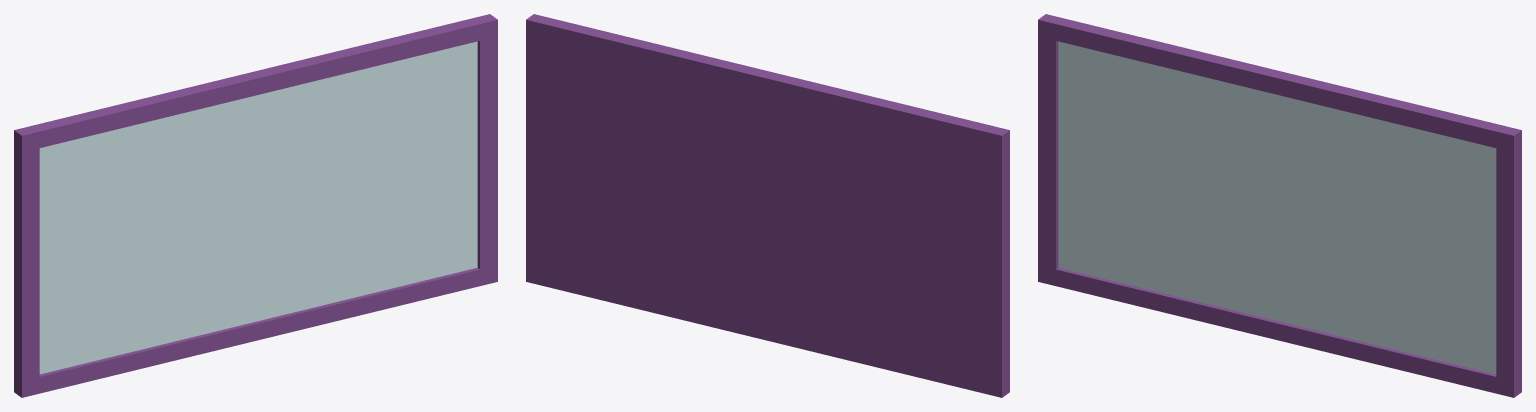
File: Itr_Obj_Monitor_LCD_Screen_On_06.FBX
3 views of the same model, side by side, from view 1: azimuth 30°, elevation 25°; view 2: azimuth 150°, elevation 25°; view 3: azimuth 330°, elevation 25° (orthographic).
Visible parts, largest first — view 1: Itr_Obj_Monitor_LCD_Screen_On_06; view 2: Itr_Obj_Monitor_LCD_Screen_On_06; view 3: Itr_Obj_Monitor_LCD_Screen_On_06.
Part boxes in pixels (x1=…): Itr_Obj_Monitor_LCD_Screen_On_06: x1=14, y1=14, x2=497, y2=397; Itr_Obj_Monitor_LCD_Screen_On_06: x1=526, y1=14, x2=1009, y2=397; Itr_Obj_Monitor_LCD_Screen_On_06: x1=1038, y1=14, x2=1521, y2=397.
Size of the model in its own units: 66.79 by 35.13 by 1.92.
